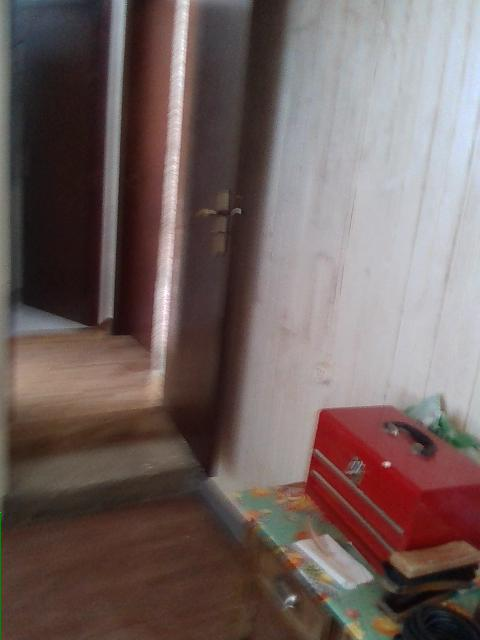door: (163, 0, 258, 479)
